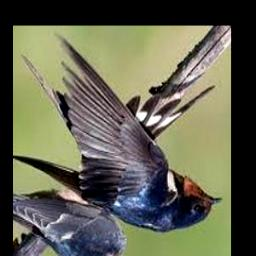Swallow: (13, 35, 223, 233), (13, 197, 126, 256)
